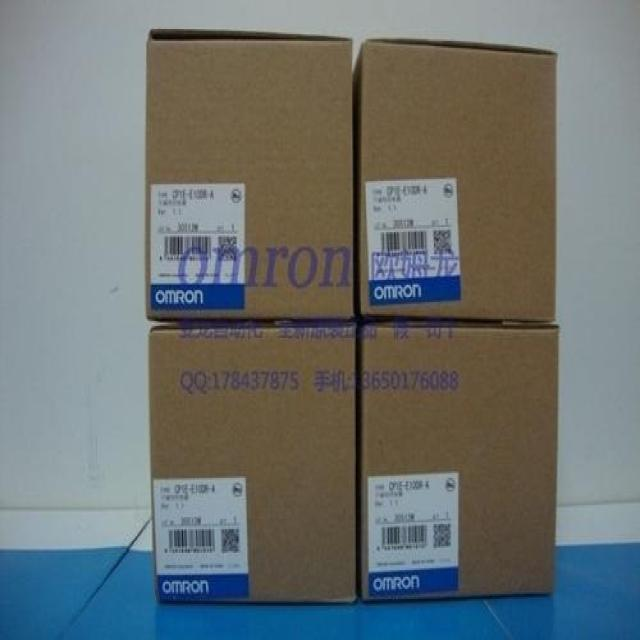box: (143, 32, 354, 319), (152, 318, 358, 601), (354, 41, 557, 321), (360, 321, 559, 599)
